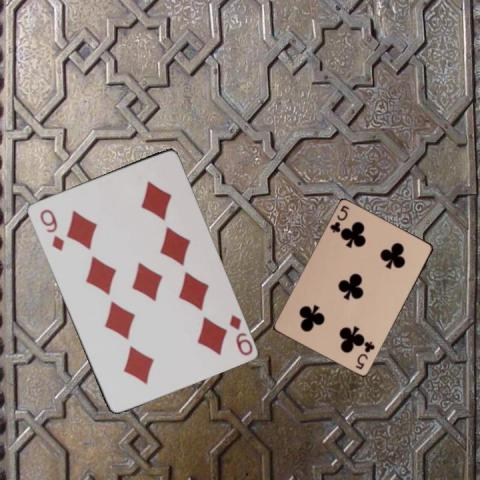5c: (352, 339, 376, 371), (327, 202, 351, 234)
9d: (36, 205, 65, 253), (226, 311, 254, 357)
